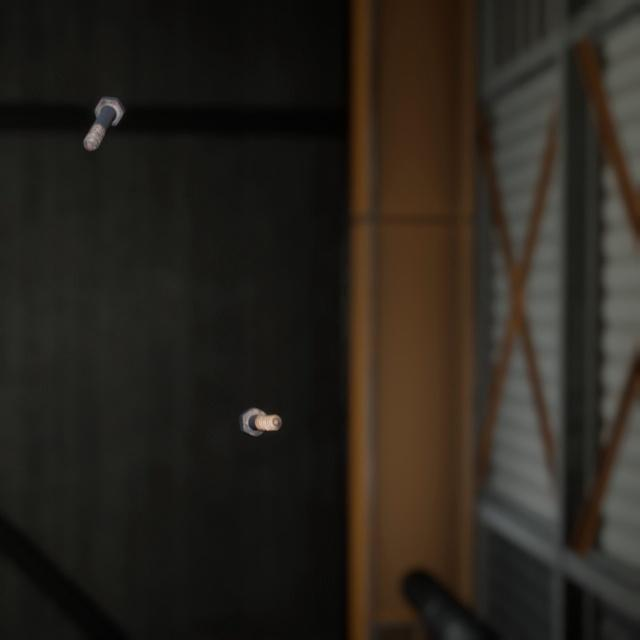bolt: (78, 80, 129, 143), (235, 383, 286, 421)
